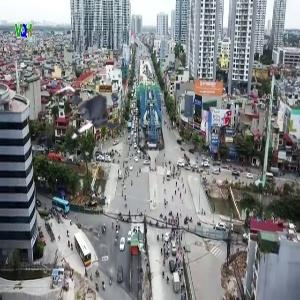drone: (49, 75, 128, 154)
